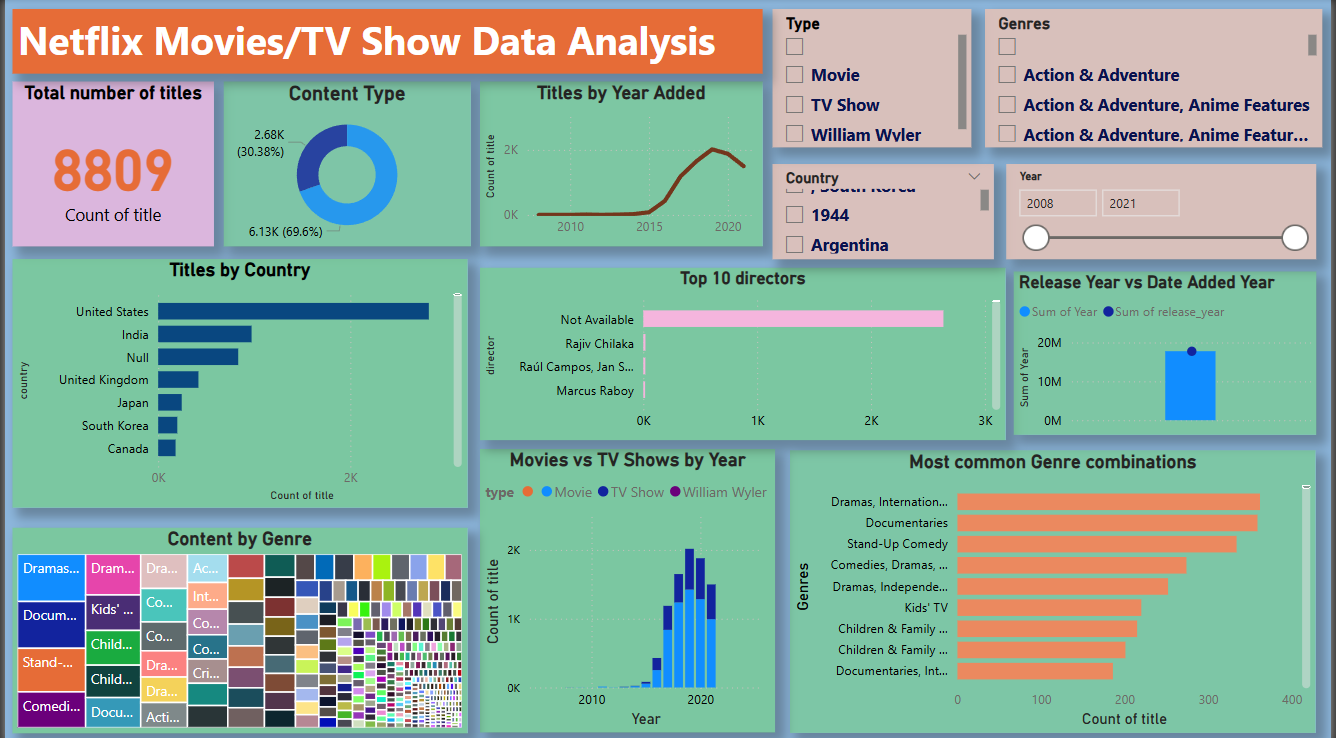

What the dashboard file says about the page in this screenshot:
{"tool":"powerbi","page":{"name":"Page 1","canvas":[1280,720],"ordinal":0},"visuals":[{"type":"card","title":"    Total number of titles","fields":{"Values":["netflix_titles (2).title"]},"box":[7.3,79.5,194.4,159],"z":0},{"type":"donutChart","title":" Content Type","fields":{"Category":["netflix_titles (2).type"],"Y":["netflix_titles (2).title"]},"box":[211.6,79.5,238.5,159],"z":1000},{"type":"barChart","title":"Titles by Country","fields":{"Category":["netflix_titles (2).country"],"Y":["netflix_titles (2).title"]},"box":[7.3,250.7,439,239.7],"z":2000},{"type":"lineChart","title":"Titles by Year Added","fields":{"Category":["netflix_titles (2).Date Added.Variation.Date Hierarchy.Year","netflix_titles (2).Date Added.Variation.Date Hierarchy.Quarter","netflix_titles (2).Date Added.Variation.Date Hierarchy.Month","netflix_titles (2).Date Added.Variation.Date Hierarchy.Day"],"Y":["netflix_titles (2).title"]},"box":[458.6,79.5,272.7,159],"z":3000},{"type":"barChart","title":"Most common Genre combinations","fields":{"Category":["netflix_titles (2).Genres"],"Y":["netflix_titles (2).title"]},"box":[758.2,435.3,507.5,272.7],"z":4000},{"type":"columnChart","title":" Movies vs TV Shows by Year","fields":{"Category":["netflix_titles (2).Year"],"Series":["netflix_titles (2).type"],"Y":["netflix_titles (2).title"]},"box":[458.6,434.1,284.9,273.9],"z":5000},{"type":"treemap","title":"Content by Genre","fields":{"Group":["netflix_titles (2).Genres"],"Values":["netflix_titles (2).title"]},"box":[7.3,509.9,439,198.1],"z":6000},{"type":"clusteredBarChart","title":"Top 10 directors","fields":{"Category":["netflix_titles (2).director"],"Y":["netflix_titles (2).title"]},"box":[458.6,259.2,507.5,166.3],"z":7000},{"type":"lineClusteredColumnComboChart","title":"Release Year vs Date Added Year","fields":{"Y2":["netflix_titles (2).release_year"],"Y":["netflix_titles (2).Year"]},"box":[973.4,262.9,292.3,157.7],"z":8000},{"type":"slicer","fields":{"Values":["netflix_titles (2).country"]},"box":[741,159,214,91.7],"z":9000},{"type":"slicer","fields":{"Values":["netflix_titles (2).type"]},"box":[741,9.8,192,133.3],"z":10000},{"type":"slicer","fields":{"Values":["netflix_titles (2).Genres"]},"box":[945.2,9.8,325.3,133.3],"z":11000},{"type":"textbox","box":[7.3,9.8,723.9,62.4],"z":12000},{"type":"slicer","fields":{"Values":["netflix_titles (2).Year"]},"box":[966,159,299.6,91.7],"z":13000}]}

Visuals, with their boxes in screenshot pixels (x1, y1, x2, y2), scaled from the page's 1280x720 canvas onto the 1336x738 screenshot:
"    Total number of titles" card: {"left": 8, "top": 81, "right": 211, "bottom": 244}
" Content Type" donutChart: {"left": 221, "top": 81, "right": 470, "bottom": 244}
"Titles by Country" barChart: {"left": 8, "top": 257, "right": 466, "bottom": 503}
"Titles by Year Added" lineChart: {"left": 479, "top": 81, "right": 763, "bottom": 244}
"Most common Genre combinations" barChart: {"left": 791, "top": 446, "right": 1321, "bottom": 726}
" Movies vs TV Shows by Year" columnChart: {"left": 479, "top": 445, "right": 776, "bottom": 726}
"Content by Genre" treemap: {"left": 8, "top": 523, "right": 466, "bottom": 726}
"Top 10 directors" clusteredBarChart: {"left": 479, "top": 266, "right": 1008, "bottom": 436}
"Release Year vs Date Added Year" lineClusteredColumnComboChart: {"left": 1016, "top": 269, "right": 1321, "bottom": 431}
slicer - netflix_titles (2).country: {"left": 773, "top": 163, "right": 997, "bottom": 257}
slicer - netflix_titles (2).type: {"left": 773, "top": 10, "right": 974, "bottom": 147}
slicer - netflix_titles (2).Genres: {"left": 987, "top": 10, "right": 1326, "bottom": 147}
textbox: {"left": 8, "top": 10, "right": 763, "bottom": 74}
slicer - netflix_titles (2).Year: {"left": 1008, "top": 163, "right": 1321, "bottom": 257}
